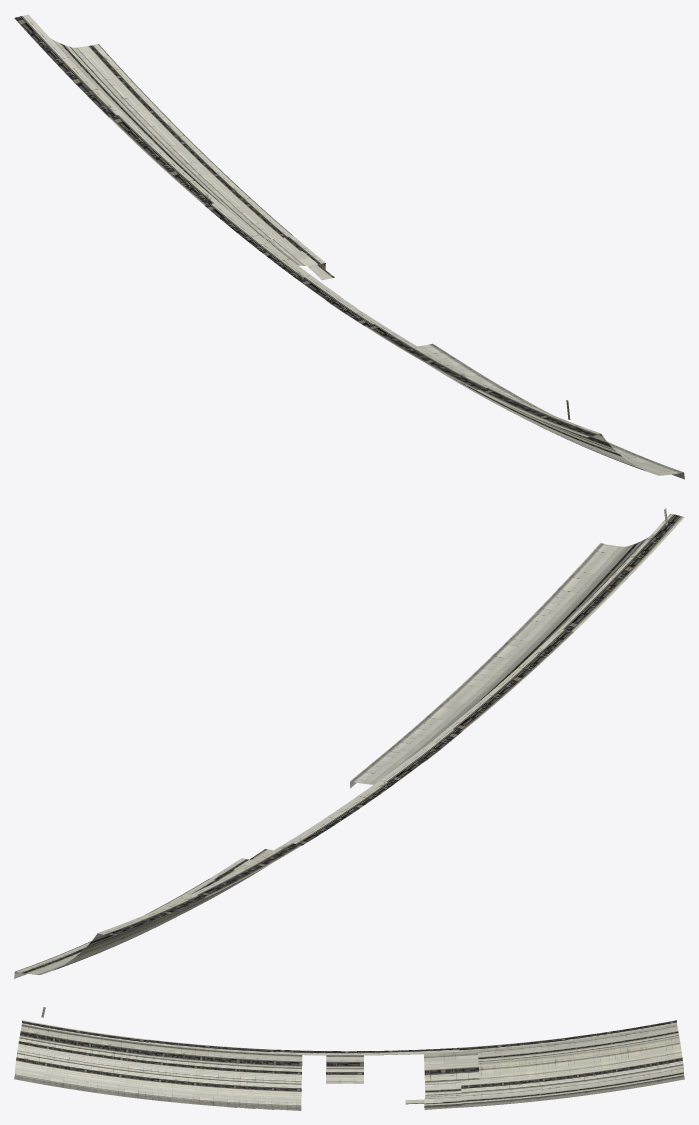
Rendered from STA20_largeside02.FBX.
3 views of the same model, one above another, from view 1: azimuth 30°, elevation 25°; view 2: azimuth 150°, elevation 25°; view 3: azimuth 270°, elevation 25° (orthographic). The views are drawn at different scales.
Parts seen in each view (by area): view 1: STA20_largeside02; view 2: STA20_largeside02; view 3: STA20_largeside02.
Boxes of the visible parts, left/top/right/bottom form: STA20_largeside02: left=14, top=14, right=684, bottom=479; STA20_largeside02: left=14, top=508, right=684, bottom=978; STA20_largeside02: left=14, top=1007, right=684, bottom=1110.
Size of the model in its own units: 129 by 187 by 1443.
